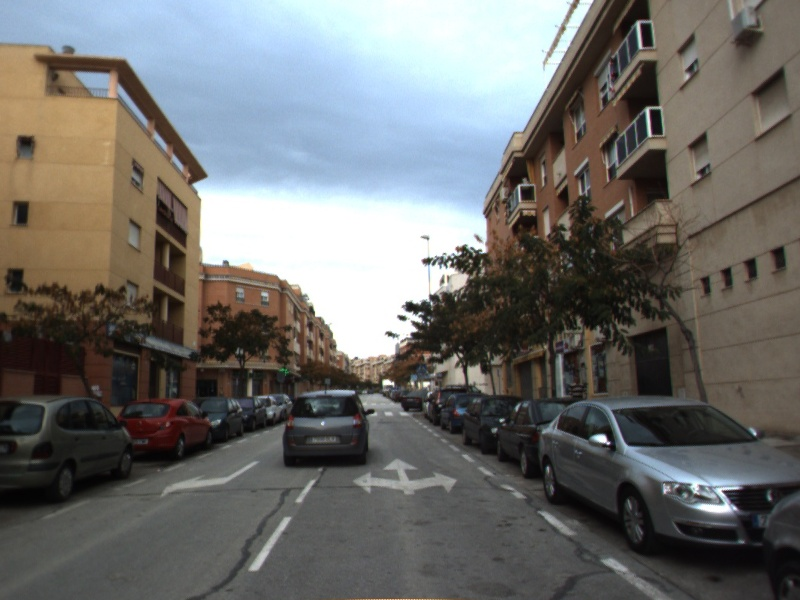STRAIGHT_LEFT_RIGHT: (350, 455, 460, 497)
